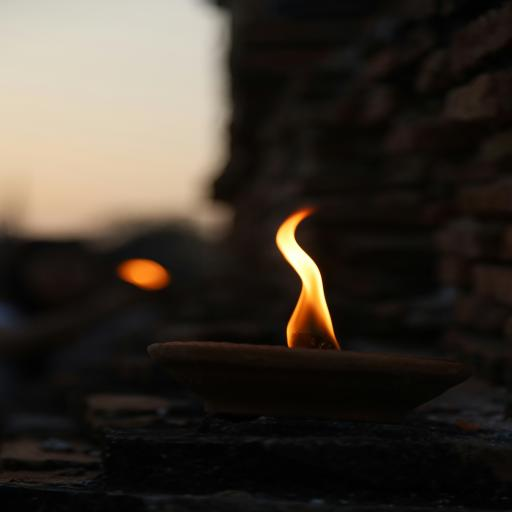fire: (210, 197, 362, 362)
